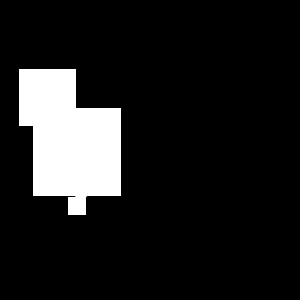circle: (33, 108, 121, 196), (19, 69, 76, 126), (68, 197, 86, 215)
rectangle: (72, 180, 91, 198)
